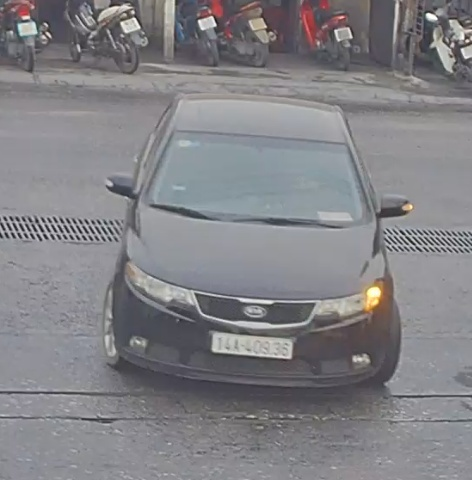vehicle plate: (199, 320, 297, 361)
